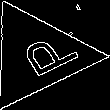P_SW: (1, 27, 73, 84)
